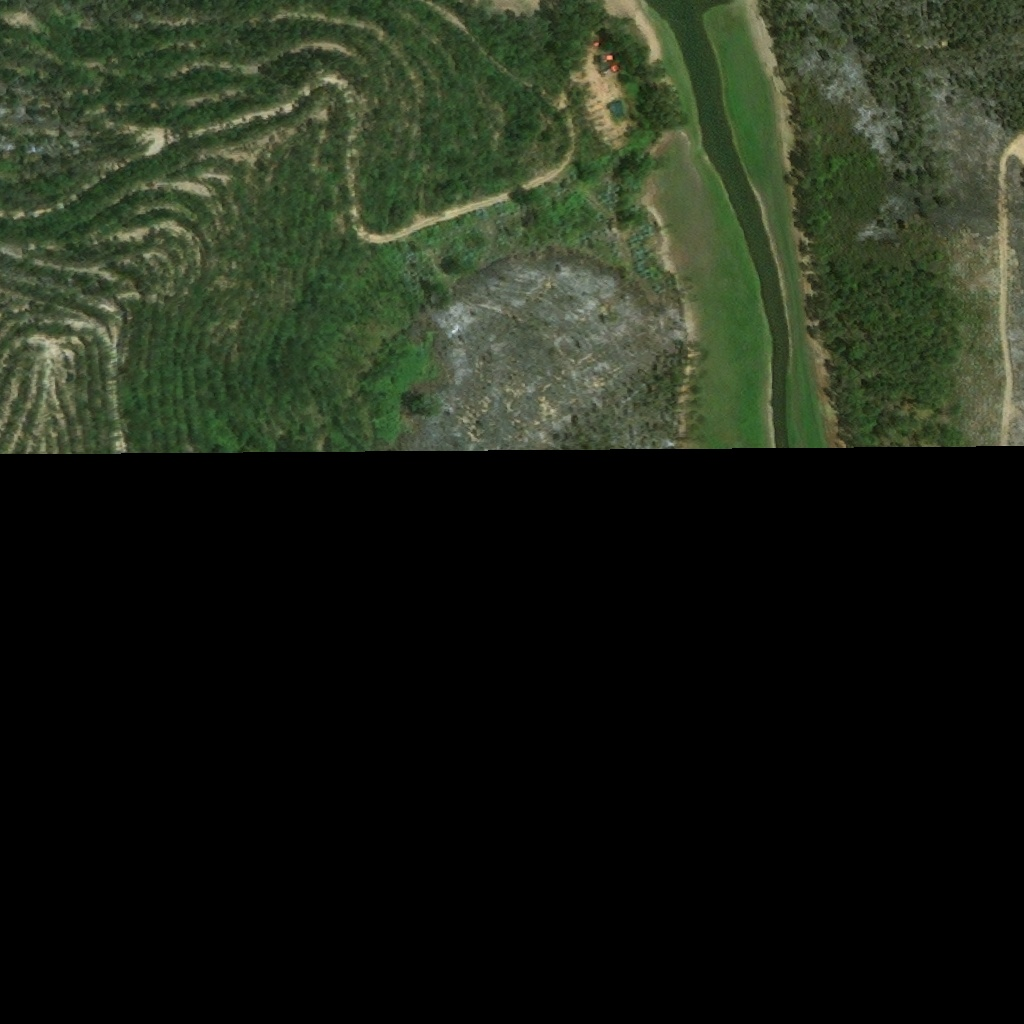0 no-damage: (603, 99, 628, 121)
